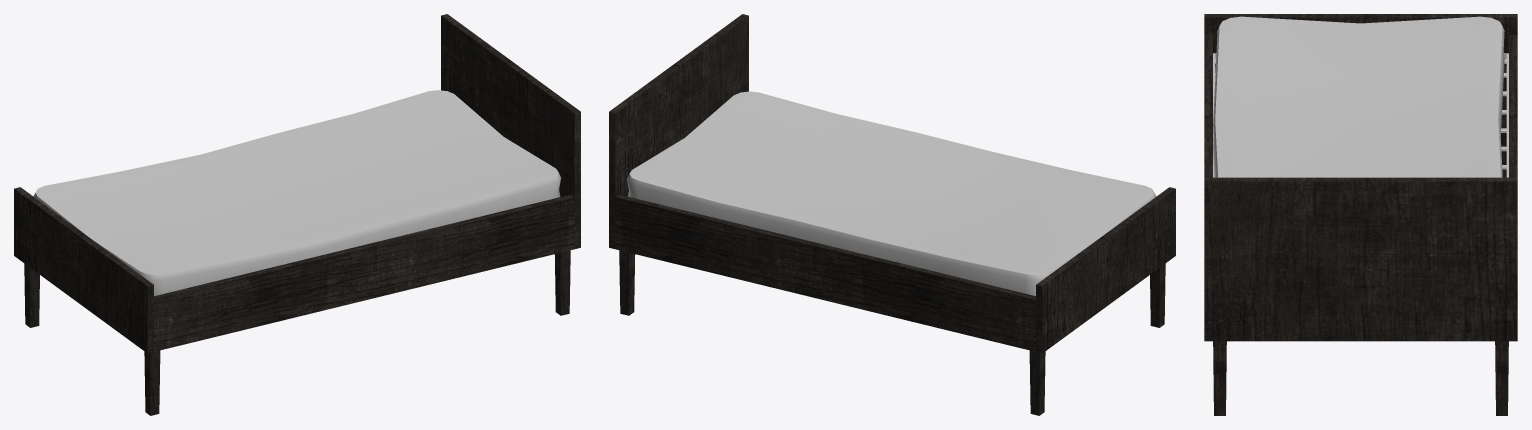
The model's file is bed_3.obj.
3 views of the same model, side by side, from view 1: azimuth 30°, elevation 25°; view 2: azimuth 150°, elevation 25°; view 3: azimuth 270°, elevation 25° (orthographic). The views are drawn at different scales.
Visible parts, largest first — view 1: bed_3; view 2: bed_3; view 3: bed_3.
Boxes of the visible parts, x1,y1,x2,y2 form: bed_3: (14,14,580,415); bed_3: (609,14,1175,415); bed_3: (1204,14,1517,415).
Size of the model in its own units: 2.7 by 1.21 by 1.44.
